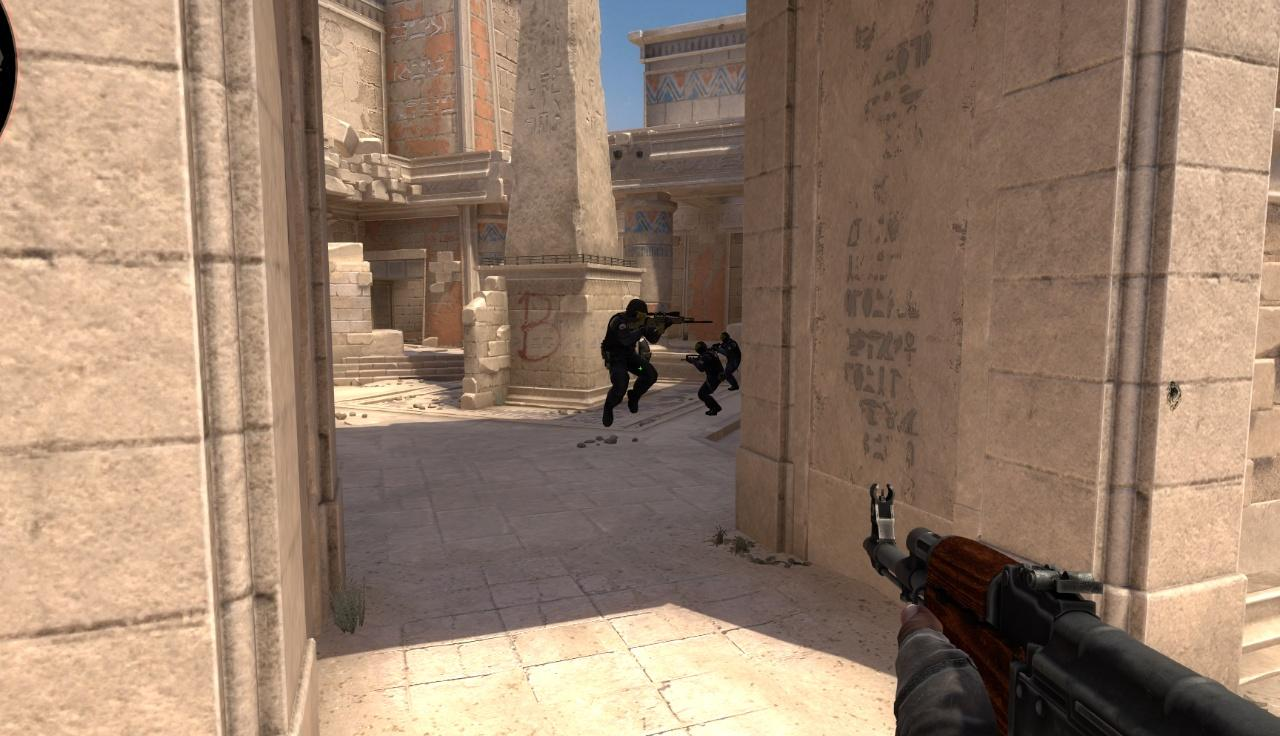ct: (603, 295, 652, 426), (686, 341, 722, 415), (718, 328, 741, 392)
cthead: (628, 300, 649, 321), (720, 331, 731, 344), (695, 341, 706, 354)
rifle: (871, 489, 1280, 736)
